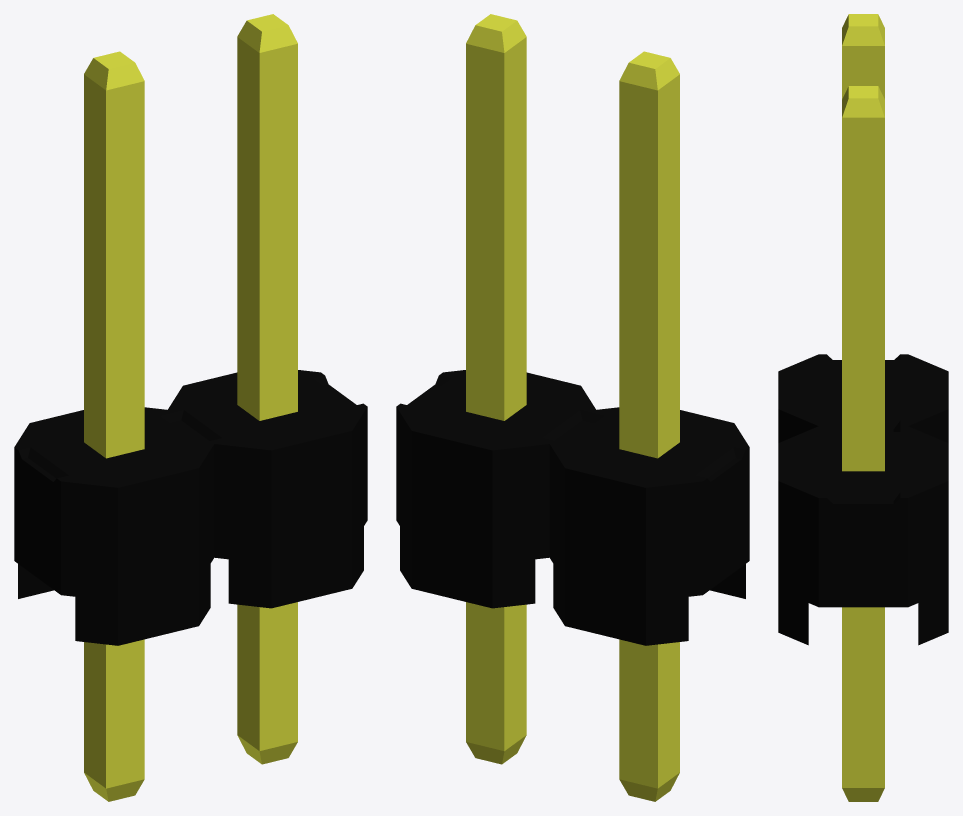
File: konekkktors.fbx
3 renders of one model, left to right at view 1: azimuth 30°, elevation 25°; view 2: azimuth 150°, elevation 25°; view 3: azimuth 270°, elevation 25°, orthographic. The views are drawn at different scales.
Visible parts, largest first — view 1: PLS-2.001; view 2: PLS-2.001; view 3: PLS-2.001.
Boxes of the visible parts, x1,y1,x2,y2 form: PLS-2.001: [14, 14, 367, 801]; PLS-2.001: [396, 14, 749, 801]; PLS-2.001: [778, 14, 948, 801].
Bounding box in the file's own units: 14 × 31.97 × 7.
